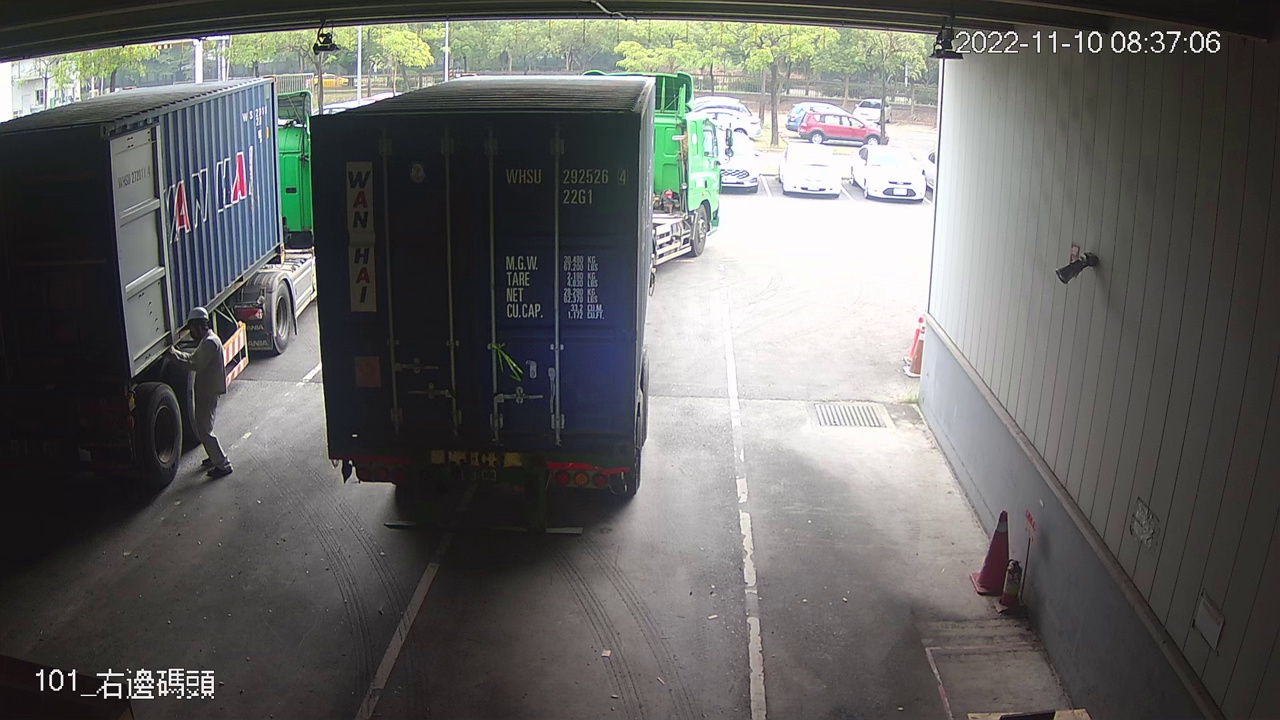container: (496, 161, 632, 208)
